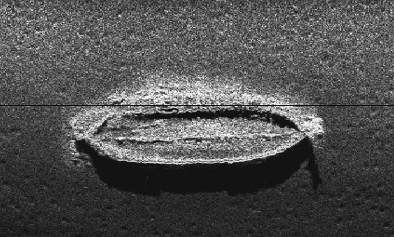ship: (77, 87, 322, 169)
